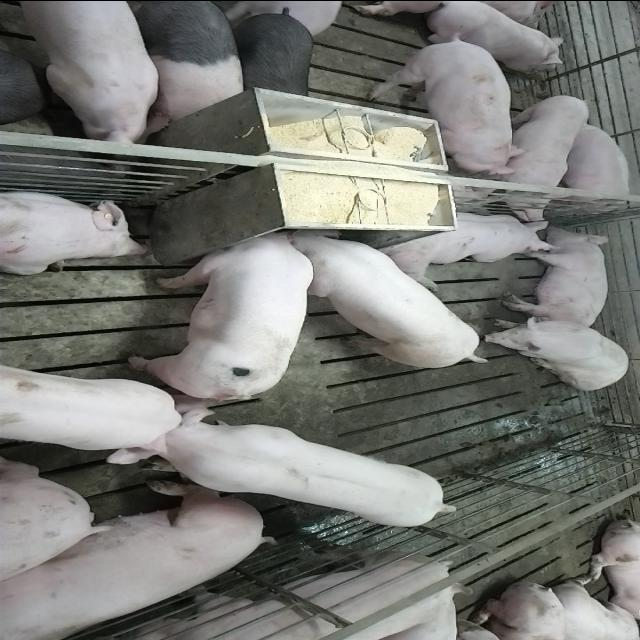Feeding: (126, 220, 314, 396), (284, 230, 496, 372)
Lateral_lying: (499, 223, 613, 329)
Sitting: (480, 316, 633, 390)
Standing: (0, 541, 473, 640), (122, 408, 454, 529), (0, 0, 162, 142), (376, 30, 525, 176), (0, 360, 182, 470), (122, 2, 248, 124), (476, 92, 590, 220), (224, 6, 316, 107)
Sternal_lying: (374, 208, 556, 283), (0, 186, 150, 274), (418, 1, 566, 70), (547, 120, 633, 212)
